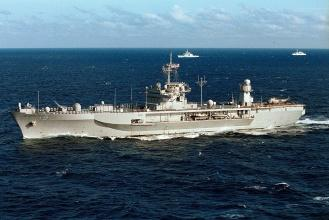warship: (13, 73, 307, 140)
